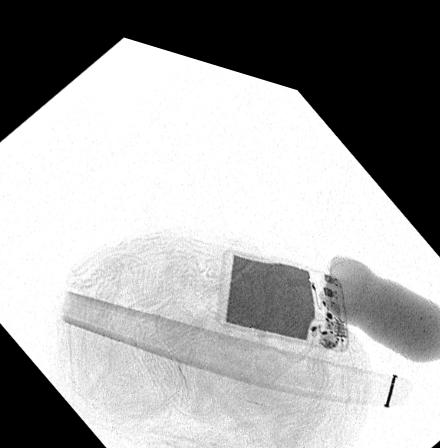Powerbank: (217, 235, 350, 334)
